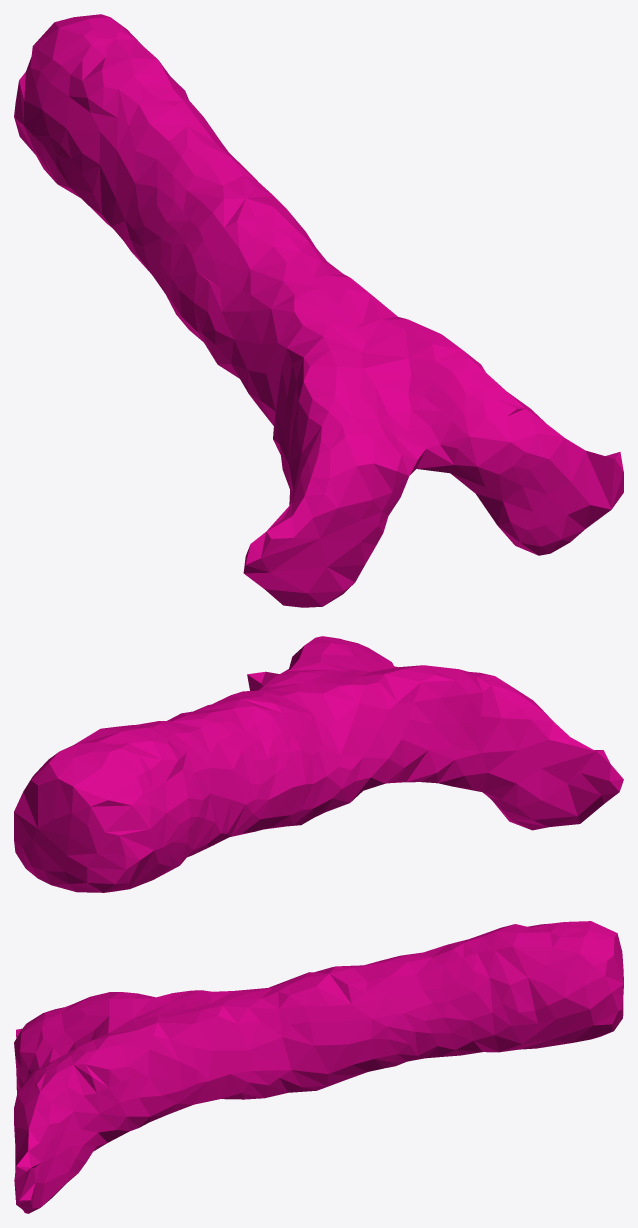
File: 194-24b-area 24b of cortex-('1.0000', '0.0000', '0.6510').obj
3 renders of one model, top to bottom at view 1: azimuth 30°, elevation 25°; view 2: azimuth 150°, elevation 25°; view 3: azimuth 270°, elevation 25°, orthographic. The views are drawn at different scales.
Bounding box in the file's own units: 73.94 × 55.93 × 130.
